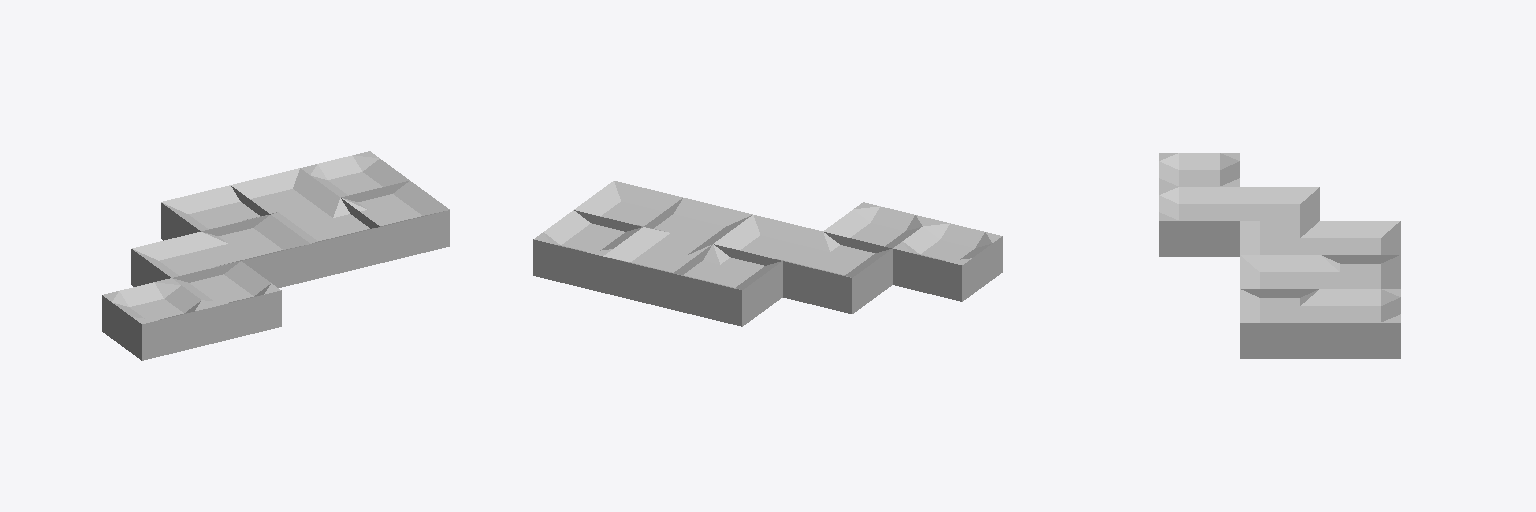
Rendered from 80f_path.obj.
3 views of the same model, side by side, from view 1: azimuth 30°, elevation 25°; view 2: azimuth 150°, elevation 25°; view 3: azimuth 270°, elevation 25° (orthographic).
Parts seen in each view (by area): view 1: foil.hole.0.2_Cube.311, foil.corner.4.3_corner.1549, foil.ending.1.2_ending.619, foil.corner.3.3_corner.1547, foil.corner.2.3_corner.1545, foil.corner.1.3_corner.1544, foil.corner.3.4_corner.1548, foil.corner.2.4_corner.1546, foil.ending.4.4_ending.620; view 2: foil.hole.0.2_Cube.311, foil.corner.1.3_corner.1544, foil.corner.2.4_corner.1546, foil.corner.3.4_corner.1548, foil.ending.4.4_ending.620, foil.corner.2.3_corner.1545, foil.corner.3.3_corner.1547, foil.corner.4.3_corner.1549, foil.ending.1.2_ending.619; view 3: foil.ending.1.2_ending.619, foil.ending.4.4_ending.620, foil.corner.4.3_corner.1549, foil.corner.1.3_corner.1544, foil.corner.3.3_corner.1547, foil.hole.0.2_Cube.311, foil.corner.2.4_corner.1546, foil.corner.3.4_corner.1548, foil.corner.2.3_corner.1545.
Part boxes in pixels (bbox=[...]): foil.hole.0.2_Cube.311: bbox=[102, 278, 211, 360]; foil.corner.4.3_corner.1549: bbox=[341, 181, 449, 262]; foil.ending.1.2_ending.619: bbox=[172, 261, 281, 343]; foil.corner.3.3_corner.1547: bbox=[272, 198, 380, 279]; foil.corner.2.3_corner.1545: bbox=[201, 215, 310, 287]; foil.corner.1.3_corner.1544: bbox=[131, 232, 240, 286]; foil.corner.3.4_corner.1548: bbox=[231, 168, 339, 218]; foil.corner.2.4_corner.1546: bbox=[161, 185, 268, 240]; foil.ending.4.4_ending.620: bbox=[301, 151, 409, 197]; foil.hole.0.2_Cube.311: bbox=[893, 219, 1002, 301]; foil.corner.1.3_corner.1544: bbox=[783, 232, 892, 313]; foil.corner.2.4_corner.1546: bbox=[673, 244, 782, 326]; foil.corner.3.4_corner.1548: bbox=[603, 227, 712, 309]; foil.ending.4.4_ending.620: bbox=[533, 210, 642, 292]; foil.corner.2.3_corner.1545: bbox=[714, 215, 822, 265]; foil.corner.3.3_corner.1547: bbox=[644, 198, 752, 248]; foil.corner.4.3_corner.1549: bbox=[574, 181, 682, 231]; foil.ending.1.2_ending.619: bbox=[823, 202, 931, 248]; foil.ending.1.2_ending.619: bbox=[1159, 187, 1239, 256]; foil.ending.4.4_ending.620: bbox=[1320, 289, 1400, 358]; foil.corner.4.3_corner.1549: bbox=[1240, 289, 1319, 358]; foil.corner.1.3_corner.1544: bbox=[1240, 187, 1319, 229]; foil.corner.3.3_corner.1547: bbox=[1240, 255, 1319, 297]; foil.hole.0.2_Cube.311: bbox=[1159, 153, 1239, 186]; foil.corner.2.4_corner.1546: bbox=[1320, 221, 1400, 254]; foil.corner.3.4_corner.1548: bbox=[1320, 255, 1400, 288]; foil.corner.2.3_corner.1545: bbox=[1240, 221, 1319, 254].
Bounding box in the file's own units: 10 × 1 × 6.